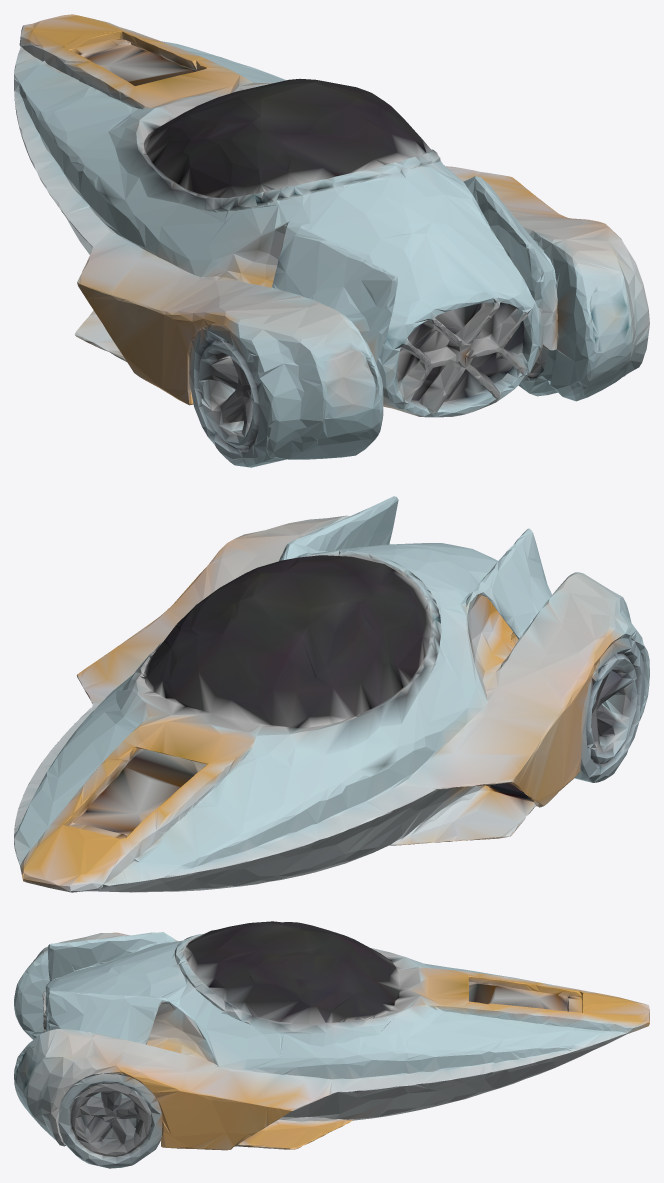
File: aero_hi.glb
3 views of the same model, one above another, from view 1: azimuth 30°, elevation 25°; view 2: azimuth 150°, elevation 25°; view 3: azimuth 270°, elevation 25° (orthographic). The views are drawn at different scales.
Parts seen in each view (by area): view 1: geometry_0; view 2: geometry_0; view 3: geometry_0.
Boxes of the visible parts, box(x1,y1,x2,y2) form: geometry_0: box(14, 14, 649, 467); geometry_0: box(14, 496, 649, 892); geometry_0: box(14, 921, 649, 1168).
Size of the model in its own units: 5.12 by 2.57 by 9.
